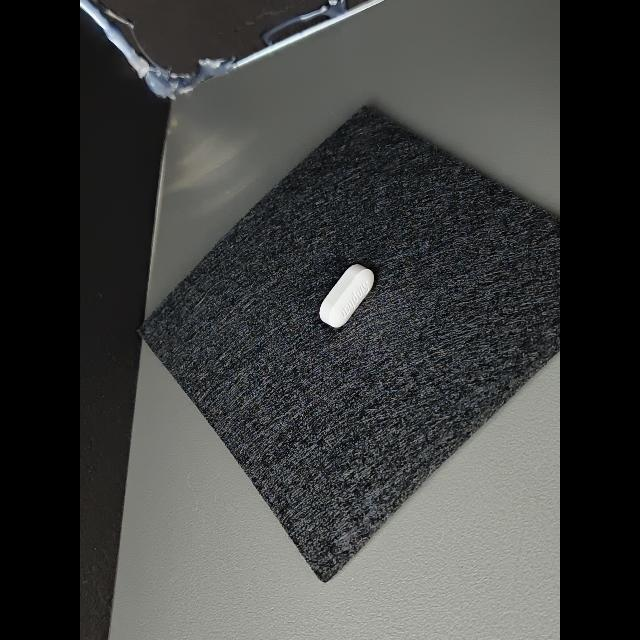Intact Pill: (319, 264, 374, 327)
